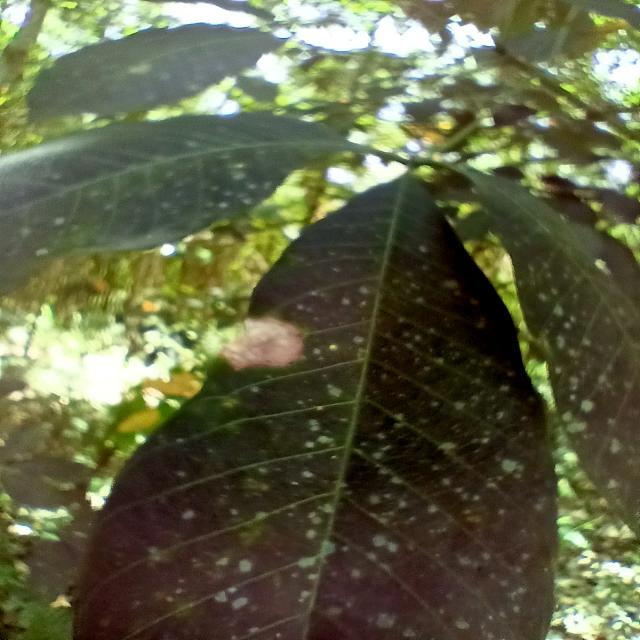Leaf-Blight: (221, 317, 303, 369)
